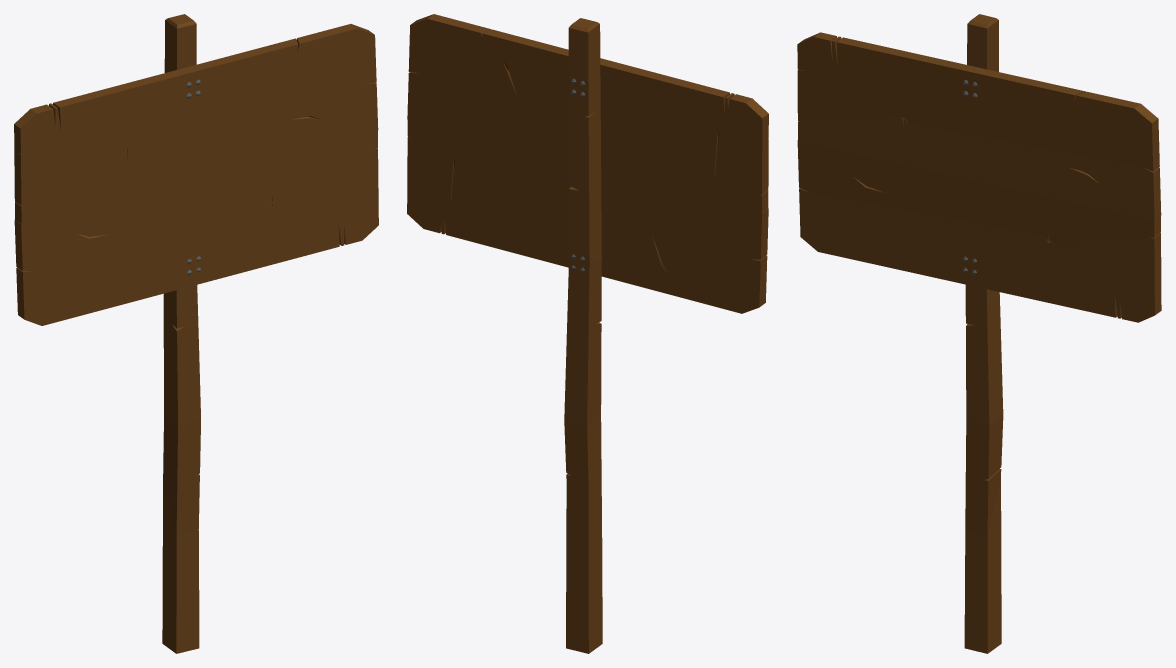
The model's file is cartelloTutorial.fbx.
3 renders of one model, left to right at view 1: azimuth 30°, elevation 25°; view 2: azimuth 150°, elevation 25°; view 3: azimuth 330°, elevation 25°, orthographic.
Parts seen in each view (by area): view 1: Cube.001; view 2: Cube.001; view 3: Cube.001.
Boxes of the visible parts, x1,y1,x2,y2 form: Cube.001: (14,14,378,653); Cube.001: (407,14,768,653); Cube.001: (797,14,1161,653).
Bounding box in the file's own units: 250 × 418 × 25.22.
